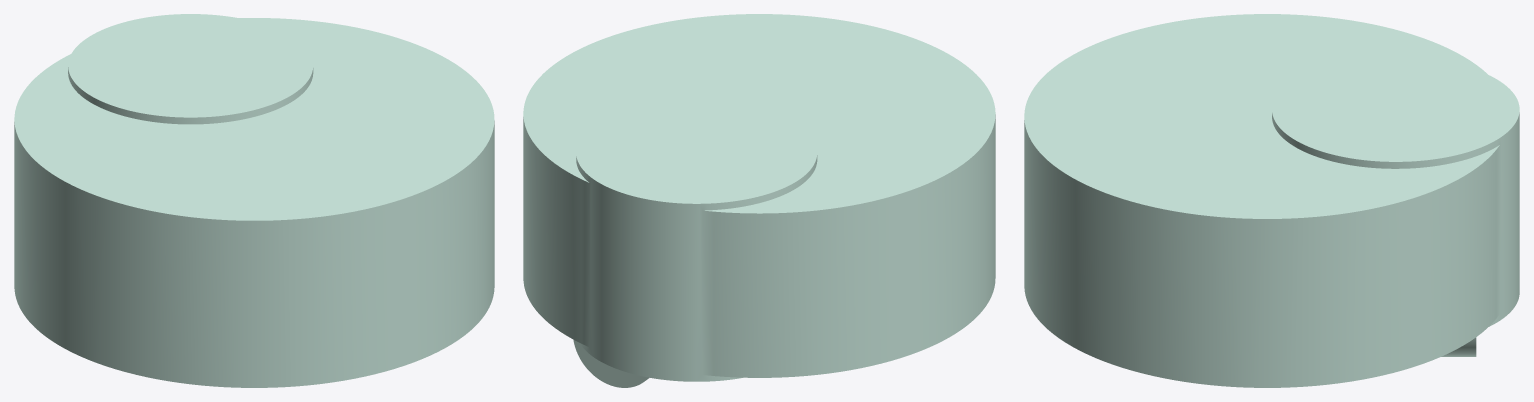
The picture shows the model from 3 angles, left to right: view 1: azimuth 30°, elevation 25°; view 2: azimuth 150°, elevation 25°; view 3: azimuth 270°, elevation 25°; orthographic projection. The views are drawn at different scales.
Visible parts, largest first — view 1: Renderer Node; view 2: Renderer Node; view 3: Renderer Node.
Part boxes in pixels (x1=…): Renderer Node: x1=14, y1=14, x2=494, y2=387; Renderer Node: x1=523, y1=14, x2=995, y2=387; Renderer Node: x1=1024, y1=14, x2=1519, y2=387.
Bounding box in the file's own units: 1.48 × 0.7477 × 1.52.
